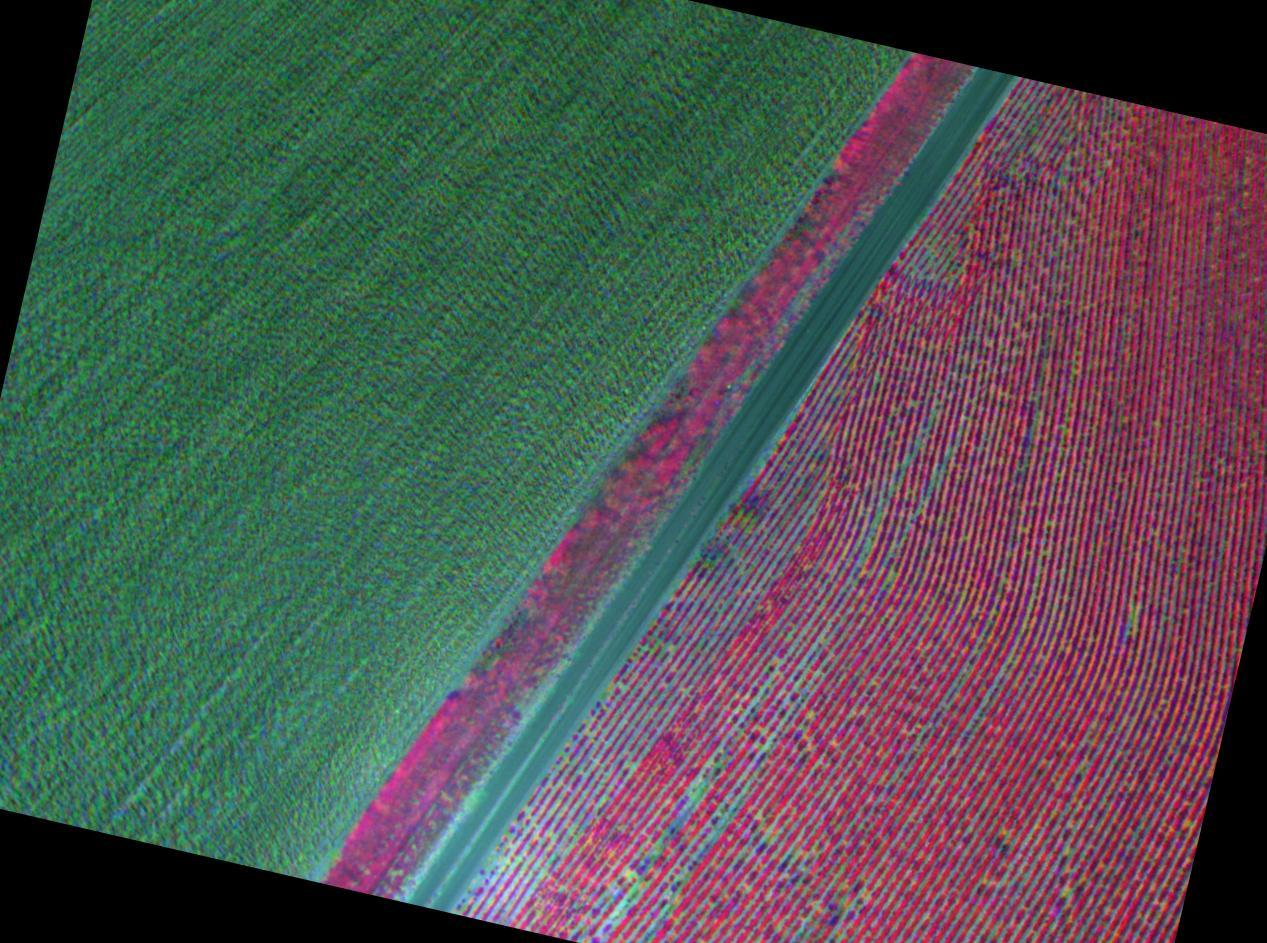dc: (887, 623, 892, 628), (709, 565, 713, 570), (615, 907, 619, 912), (903, 459, 907, 463), (930, 481, 934, 485), (888, 552, 892, 556), (889, 576, 893, 580), (757, 814, 761, 818), (650, 851, 654, 855), (628, 875, 631, 879), (866, 545, 869, 548), (698, 790, 700, 793)
